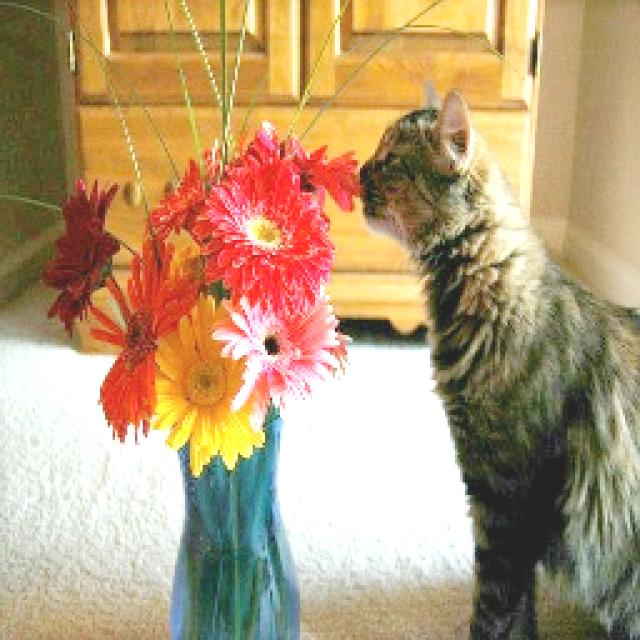cat: (358, 75, 640, 640)
